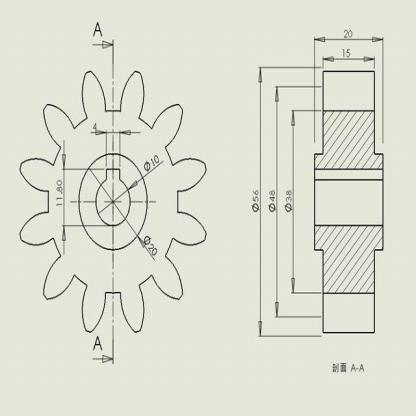FOD: (16, 64, 209, 339)
